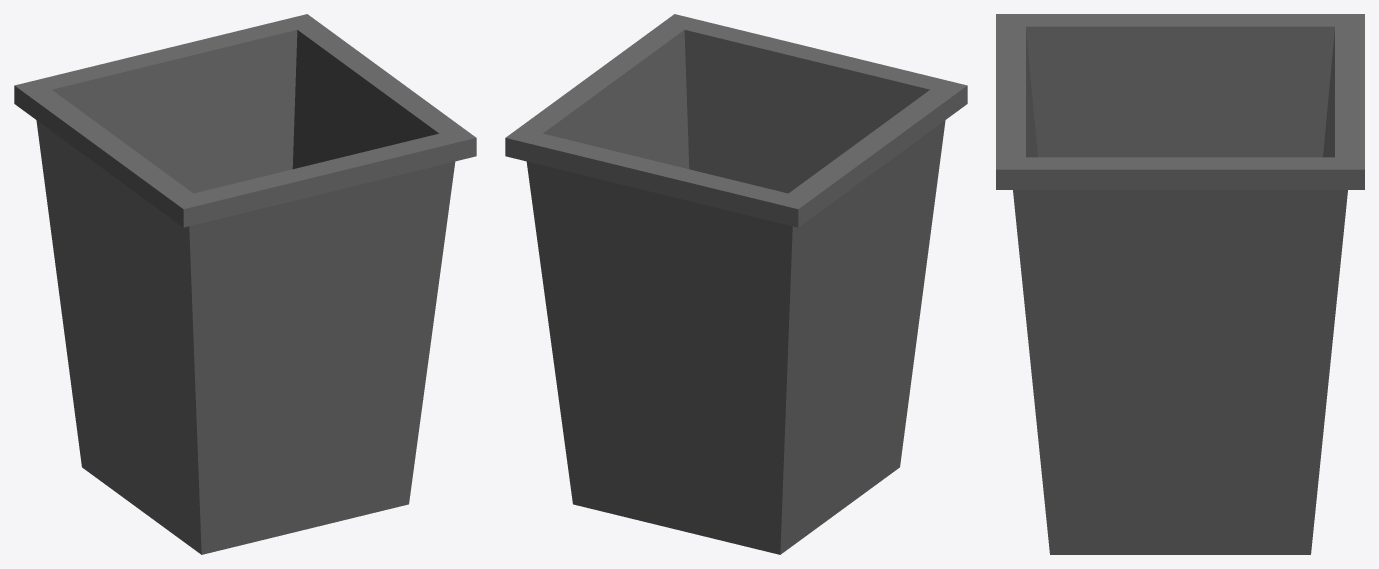
The model's file is Trashcan.fbx.
3 renders of one model, left to right at view 1: azimuth 30°, elevation 25°; view 2: azimuth 150°, elevation 25°; view 3: azimuth 270°, elevation 25°, orthographic. The views are drawn at different scales.
Visible parts, largest first — view 1: Trashcan; view 2: Trashcan; view 3: Trashcan.
Boxes of the visible parts, x1,y1,x2,y2 form: Trashcan: (14,14,476,554); Trashcan: (505,14,967,554); Trashcan: (996,14,1364,554).
Size of the model in its own units: 320 by 320 by 391.
